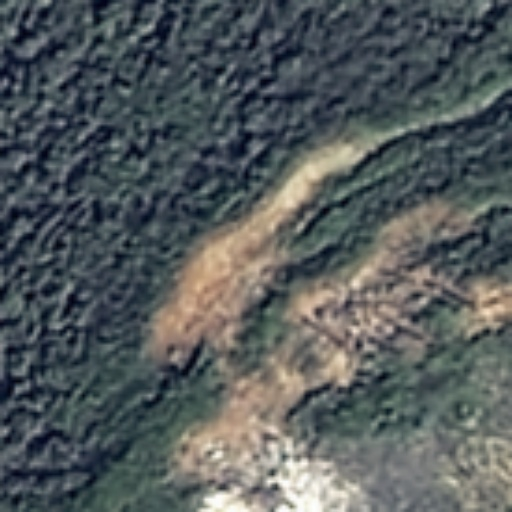landslide: (159, 143, 498, 486)
